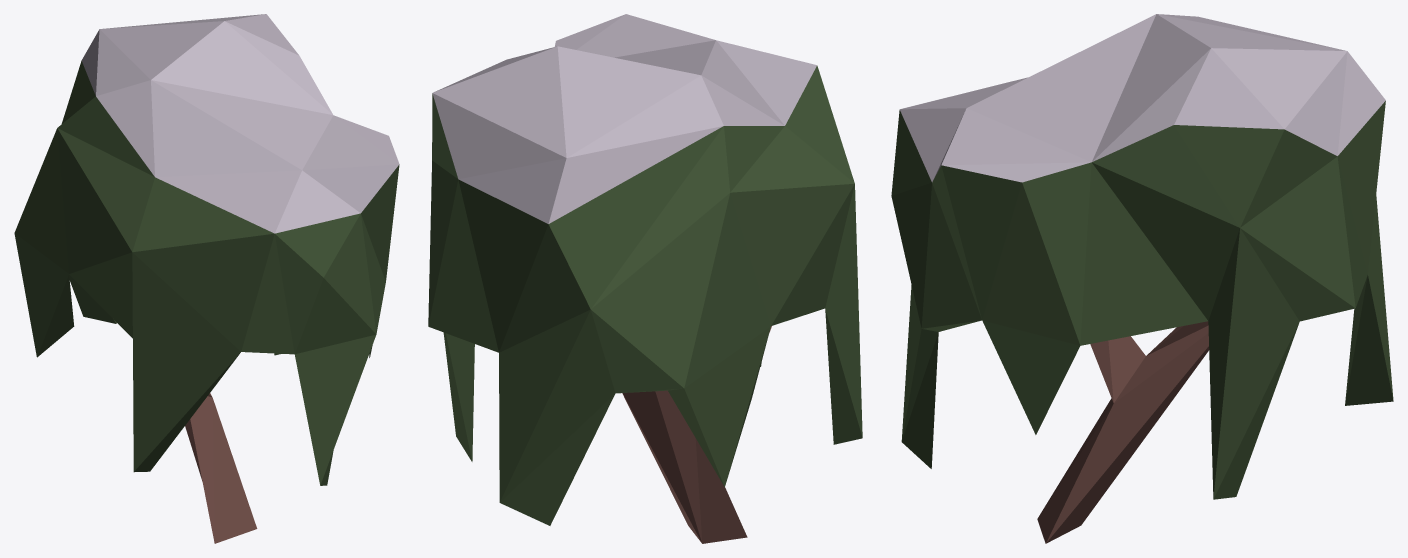
File: Willow_Snow_4.lod3.glb
The picture shows the model from 3 angles, left to right: view 1: azimuth 30°, elevation 25°; view 2: azimuth 150°, elevation 25°; view 3: azimuth 270°, elevation 25°; orthographic projection. The views are drawn at different scales.
Visible parts, largest first — view 1: Willow_Snow_4; view 2: Willow_Snow_4; view 3: Willow_Snow_4.
Part boxes in pixels (bbox=[...]): Willow_Snow_4: bbox=[14, 14, 399, 543]; Willow_Snow_4: bbox=[428, 14, 862, 543]; Willow_Snow_4: bbox=[891, 14, 1393, 543].
Size of the model in its own units: 2.17 by 3.48 by 3.05.
